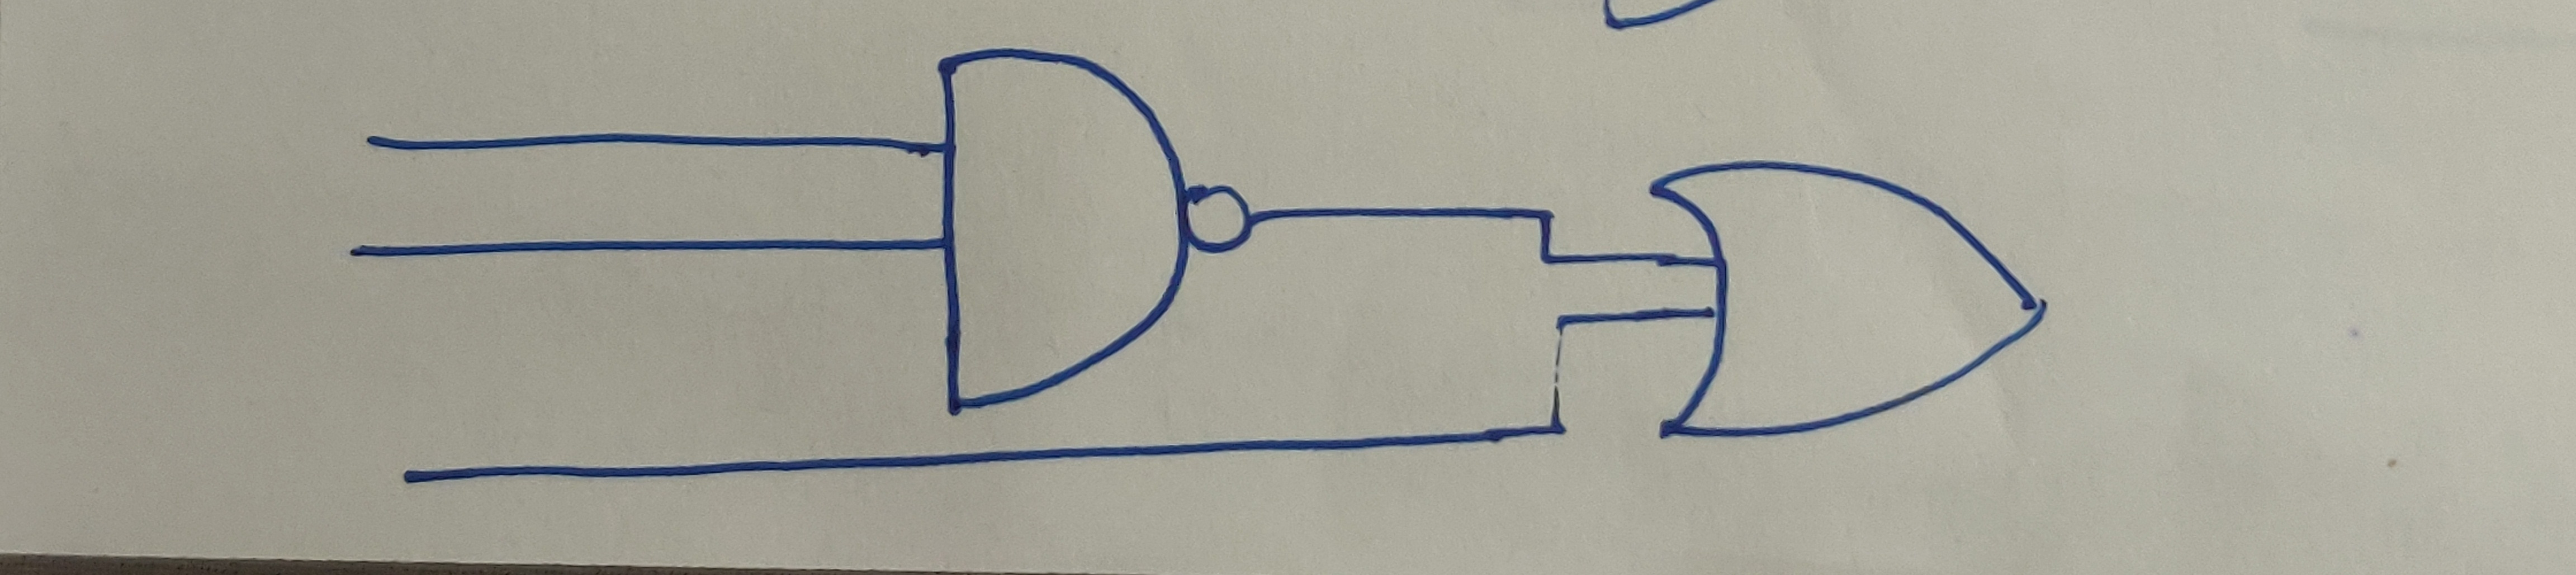and: (933, 44, 1193, 422)
not: (1180, 182, 1255, 261)
or: (1636, 163, 2047, 445)
